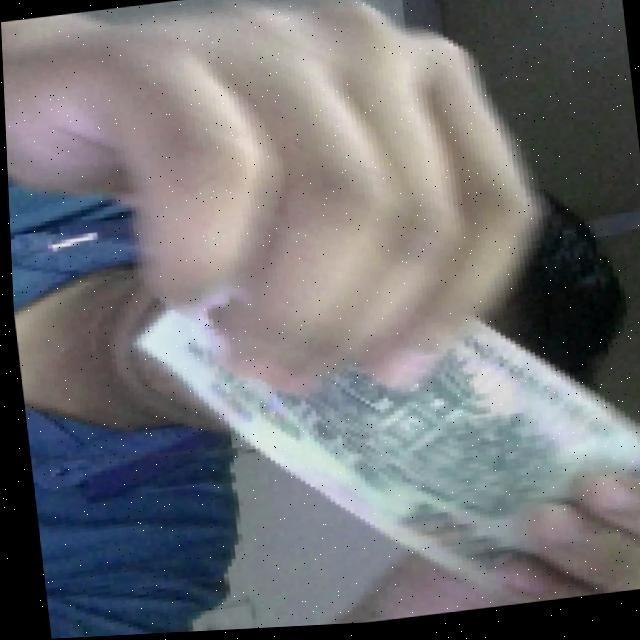100 000 VND: (121, 244, 640, 635)
